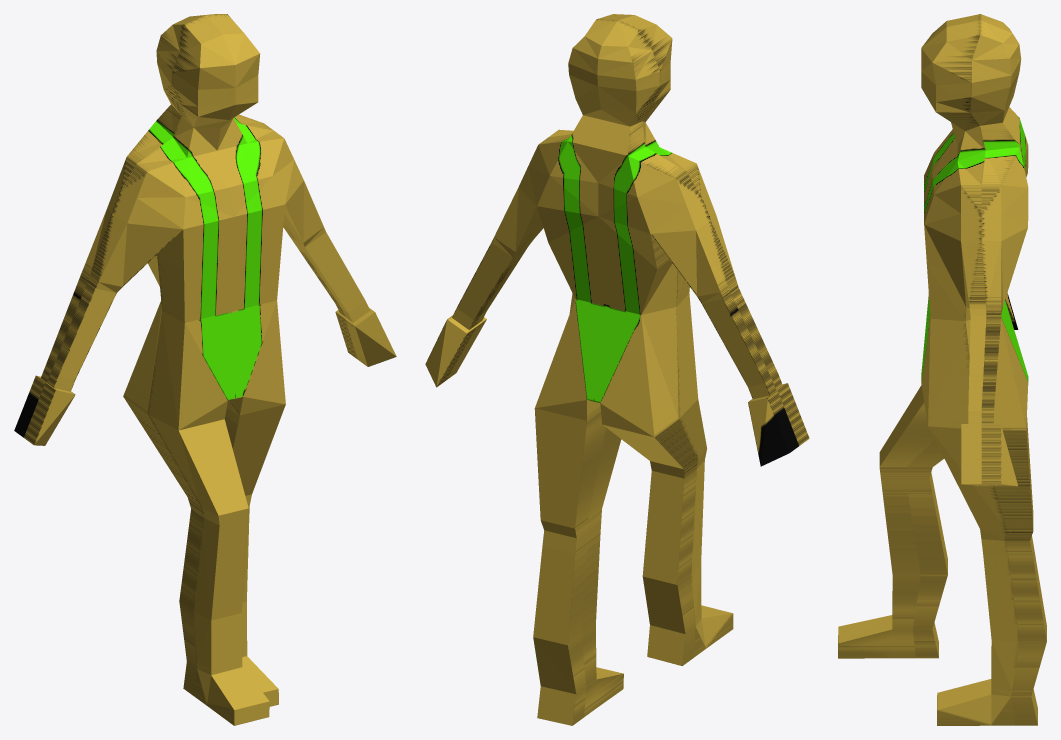
3 views of the same model, side by side, from view 1: azimuth 30°, elevation 25°; view 2: azimuth 150°, elevation 25°; view 3: azimuth 270°, elevation 25° (orthographic).
Parts seen in each view (by area): view 1: Borat; view 2: Borat; view 3: Borat.
Part boxes in pixels (<box>): Borat: <box>14,14,396,725</box>; Borat: <box>425,14,809,725</box>; Borat: <box>838,14,1046,725</box>.
Bounding box in the file's own units: 1.79 × 3.23 × 0.898.
